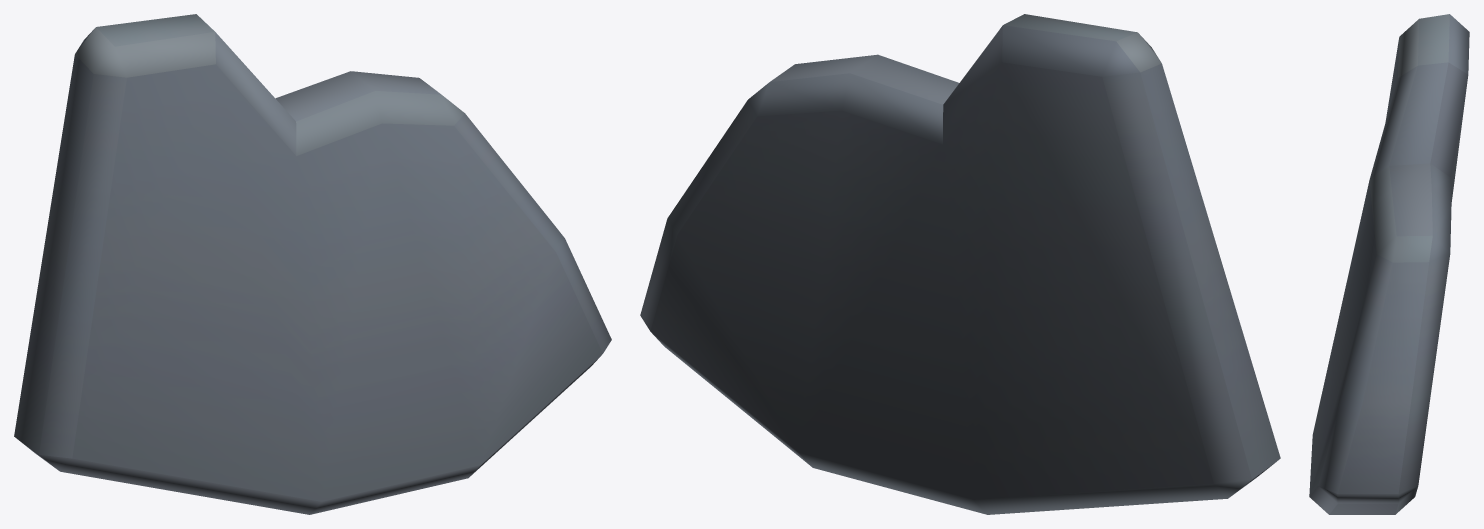
Rendered from rock_010.fbx.
3 views of the same model, side by side, from view 1: azimuth 30°, elevation 25°; view 2: azimuth 150°, elevation 25°; view 3: azimuth 270°, elevation 25° (orthographic). The views are drawn at different scales.
Parts seen in each view (by area): view 1: rock_010; view 2: rock_010; view 3: rock_010.
Part boxes in pixels (<box>): rock_010: <box>14,14,611,514</box>; rock_010: <box>640,14,1280,514</box>; rock_010: <box>1309,14,1469,514</box>.
Size of the model in its own units: 207 by 170 by 64.47.
